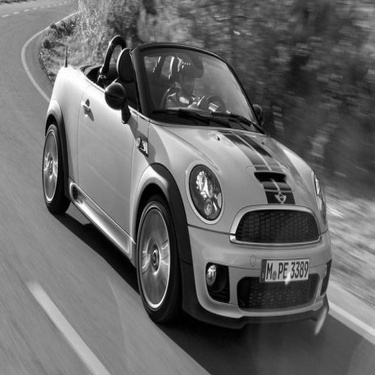car: (31, 26, 338, 347)
